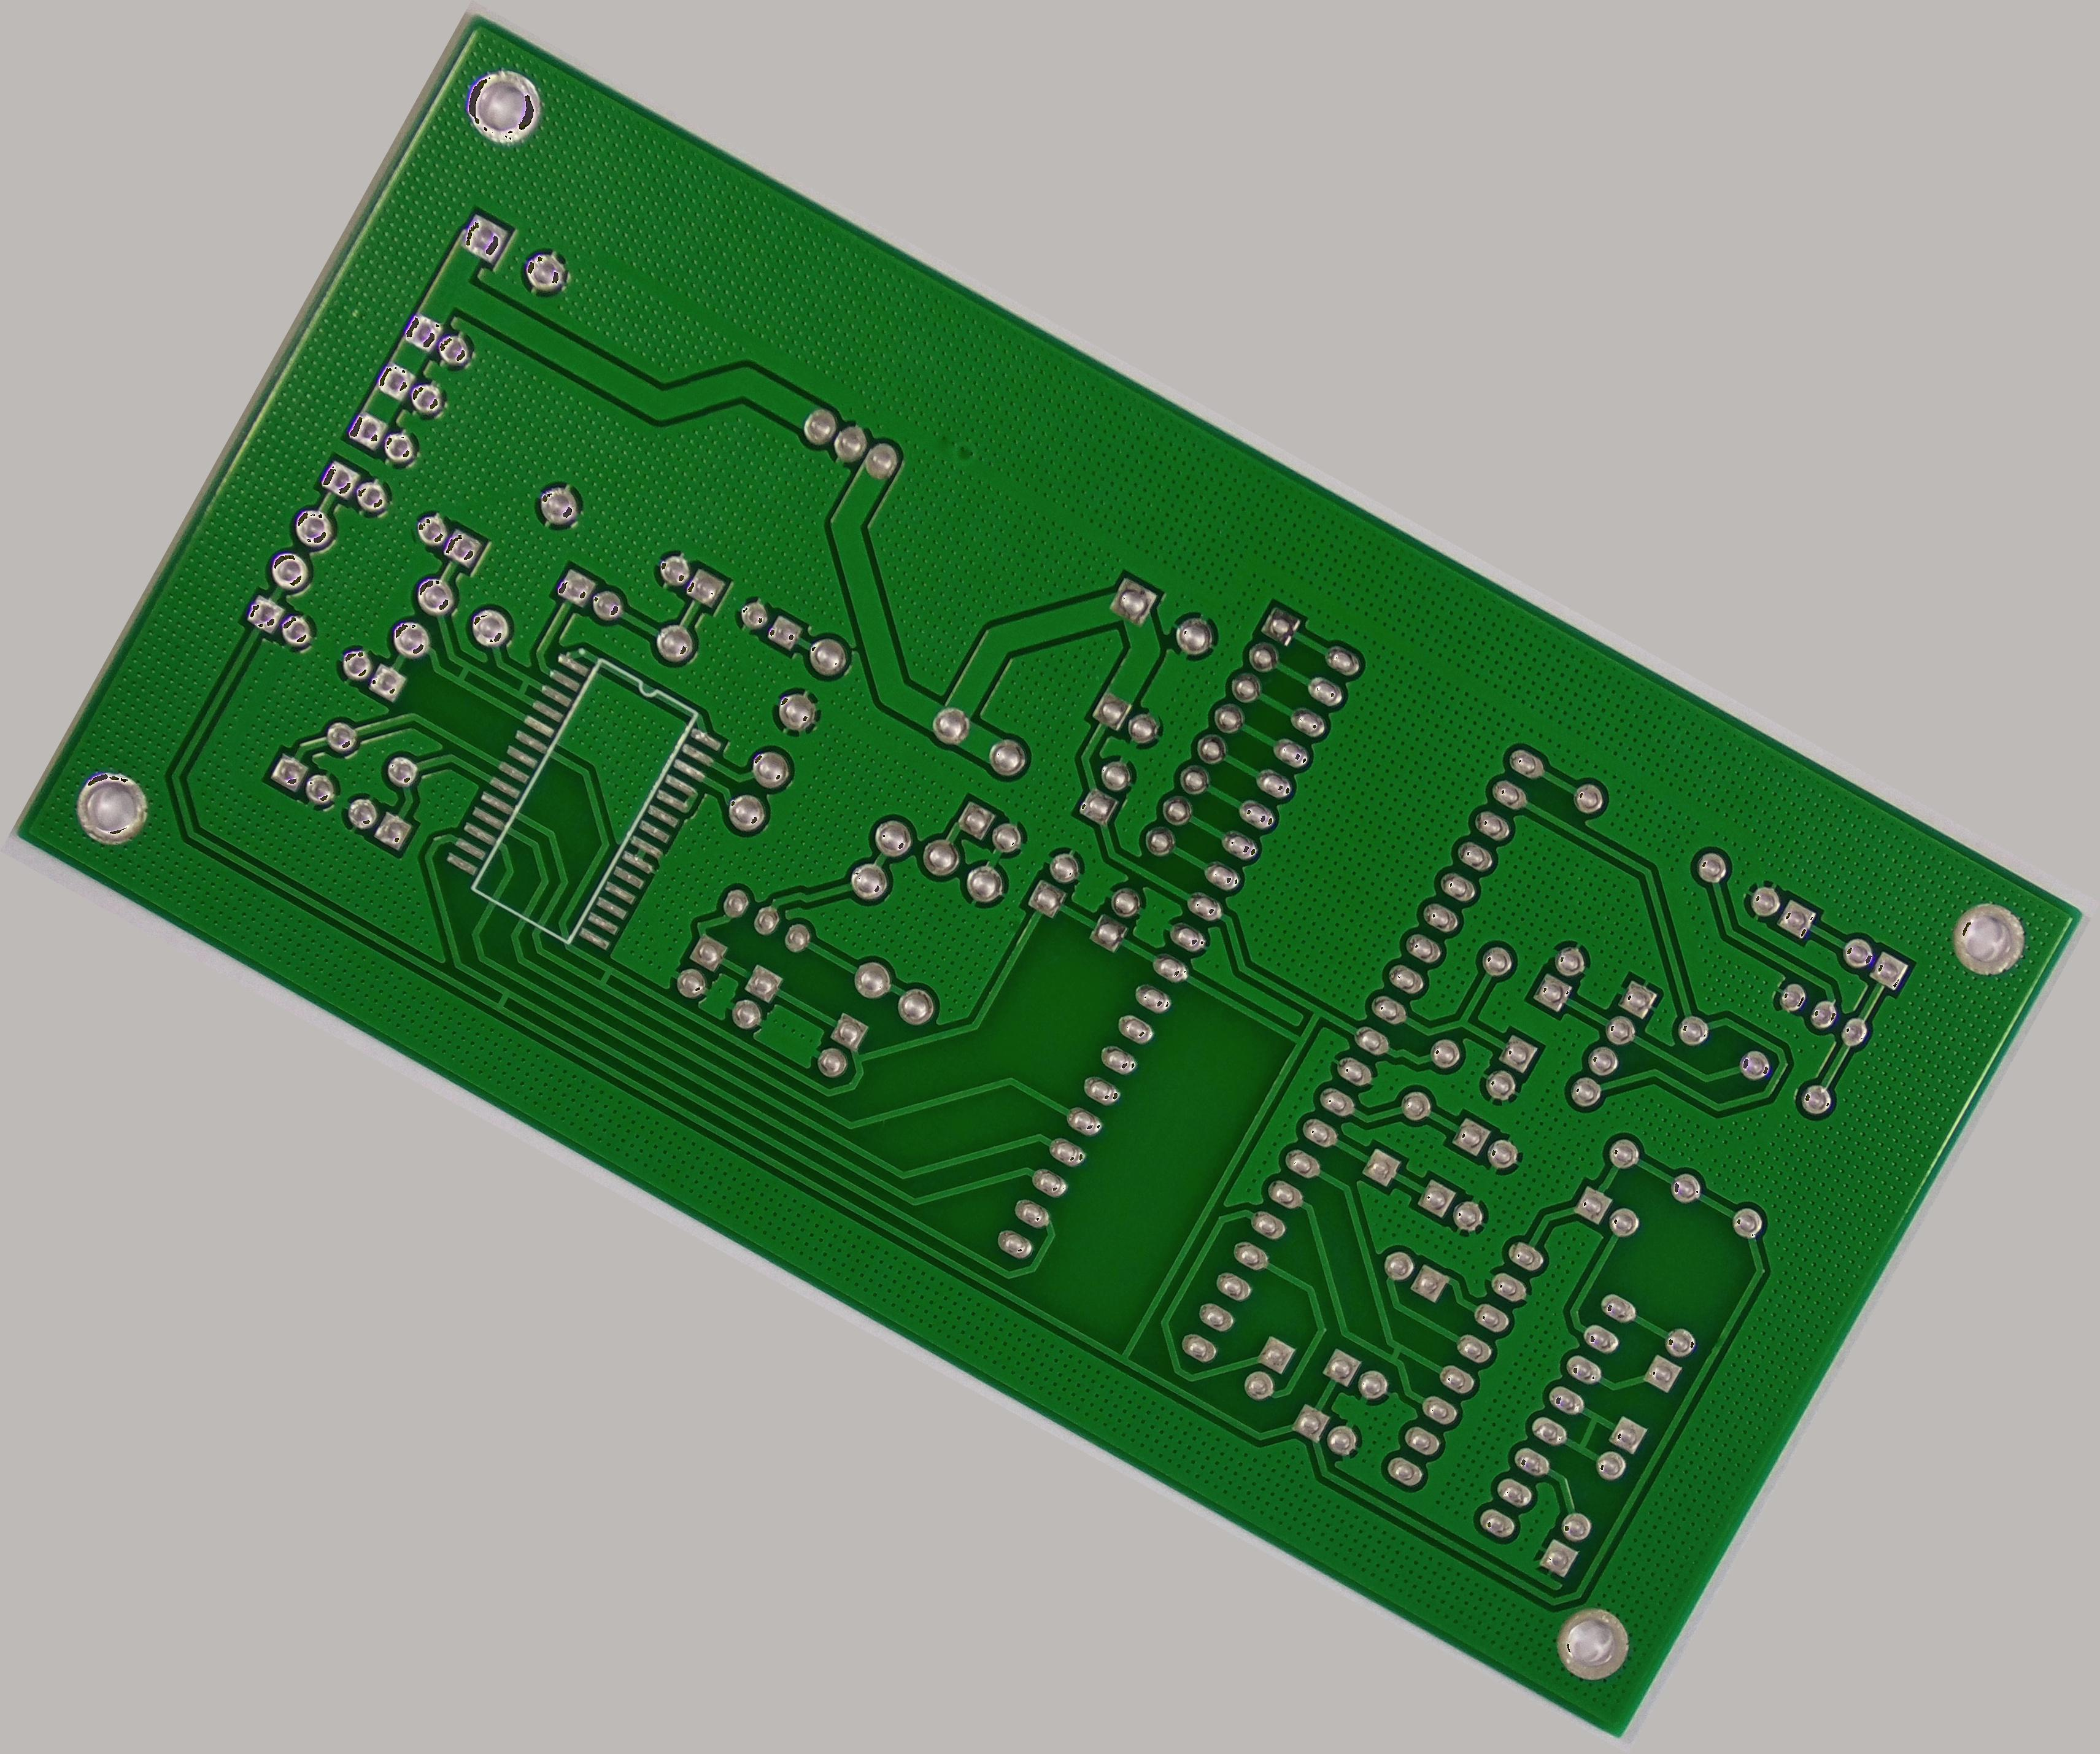short: (1547, 1391, 1626, 1472), (574, 947, 633, 1004), (1366, 1320, 1423, 1376), (434, 650, 487, 703), (476, 975, 527, 1025), (504, 666, 546, 708)
